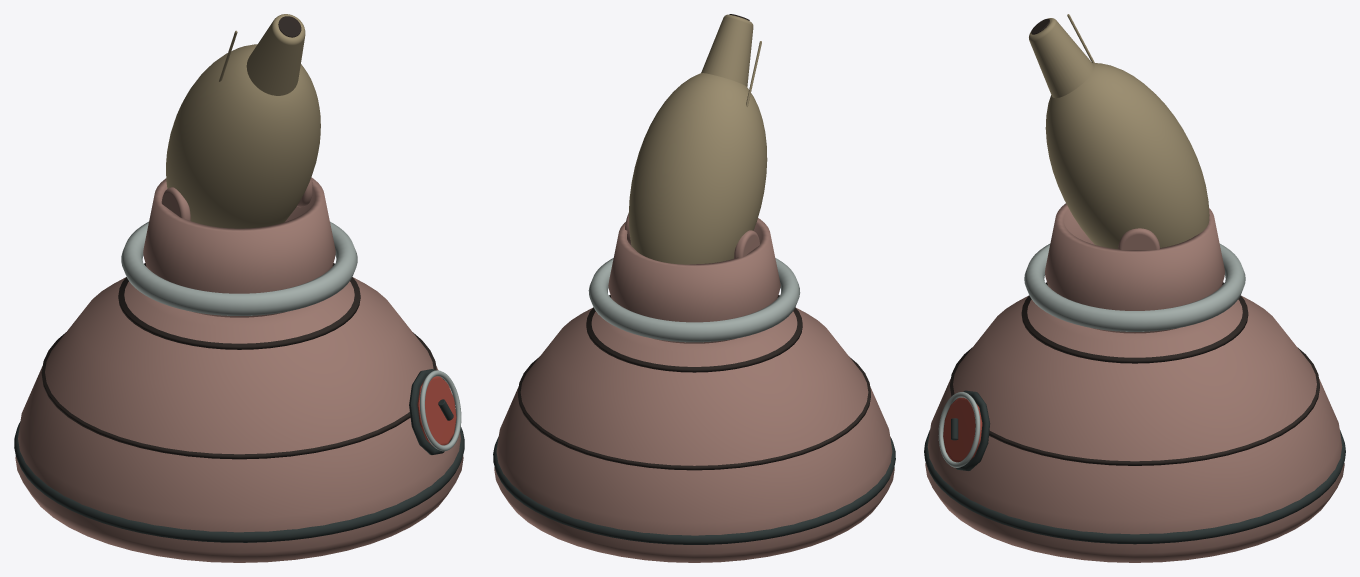
The model's file is photon-turret.glb.
3 renders of one model, left to right at view 1: azimuth 30°, elevation 25°; view 2: azimuth 150°, elevation 25°; view 3: azimuth 270°, elevation 25°, orthographic. The views are drawn at different scales.
Visible parts, largest first — view 1: Research rounded elastoplastic armour, Research strengthened egg barrel, Research swivelling weapon cup, Azimuth race flange, Pedestal foundation joint, Research tapered photon nozzle, Research armour horizontal seam.001, Research armour horizontal seam.002, Pedestal systems hatch lid, Pedestal systems hatch rim, Pedestal systems hatch dark gasket, Research barrel lower trunnion; view 2: Research rounded elastoplastic armour, Research strengthened egg barrel, Research swivelling weapon cup, Azimuth race flange, Pedestal foundation joint, Research tapered photon nozzle, Research armour horizontal seam.001, Research armour horizontal seam.002; view 3: Research rounded elastoplastic armour, Research strengthened egg barrel, Research swivelling weapon cup, Azimuth race flange, Pedestal foundation joint, Research tapered photon nozzle, Research armour horizontal seam.001, Research armour horizontal seam.002, Pedestal systems hatch lid, Pedestal systems hatch rim, Pedestal systems hatch dark gasket, Research barrel lower trunnion.001.
Boxes of the visible parts, left/top/right/bottom form: Research rounded elastoplastic armour: left=15, top=266, right=463, bottom=562; Research strengthened egg barrel: left=166, top=44, right=320, bottom=228; Research swivelling weapon cup: left=143, top=178, right=335, bottom=317; Azimuth race flange: left=121, top=221, right=357, bottom=315; Pedestal foundation joint: left=14, top=421, right=464, bottom=542; Research tapered photon nozzle: left=246, top=14, right=305, bottom=95; Research armour horizontal seam.001: left=41, top=332, right=436, bottom=459; Research armour horizontal seam.002: left=118, top=263, right=360, bottom=349; Pedestal systems hatch lid: left=417, top=376, right=456, bottom=446; Pedestal systems hatch rim: left=419, top=370, right=461, bottom=451; Pedestal systems hatch dark gasket: left=409, top=369, right=451, bottom=454; Research barrel lower trunnion: left=161, top=187, right=190, bottom=220; Research rounded elastoplastic armour: left=494, top=298, right=894, bottom=562; Research strengthened egg barrel: left=628, top=73, right=767, bottom=264; Research swivelling weapon cup: left=608, top=218, right=780, bottom=343; Azimuth race flange: left=588, top=258, right=800, bottom=342; Pedestal foundation joint: left=493, top=437, right=895, bottom=544; Research tapered photon nozzle: left=701, top=14, right=753, bottom=86; Research armour horizontal seam.001: left=518, top=356, right=870, bottom=470; Research armour horizontal seam.002: left=586, top=295, right=802, bottom=372; Research rounded elastoplastic armour: left=925, top=285, right=1344, bottom=562; Research strengthened egg barrel: left=1045, top=63, right=1209, bottom=248; Research swivelling weapon cup: left=1045, top=203, right=1224, bottom=333; Azimuth race flange: left=1024, top=244, right=1245, bottom=331; Pedestal foundation joint: left=924, top=430, right=1345, bottom=544; Research tapered photon nozzle: left=1029, top=18, right=1094, bottom=98; Research armour horizontal seam.001: left=950, top=347, right=1319, bottom=465; Research armour horizontal seam.002: left=1021, top=282, right=1248, bottom=363; Pedestal systems hatch lid: left=943, top=397, right=982, bottom=462; Pedestal systems hatch rim: left=938, top=392, right=980, bottom=467; Pedestal systems hatch dark gasket: left=948, top=390, right=990, bottom=470; Research barrel lower trunnion.001: left=1118, top=228, right=1159, bottom=249.
Size of the model in its own units: 2.01 by 2.41 by 2.01.
